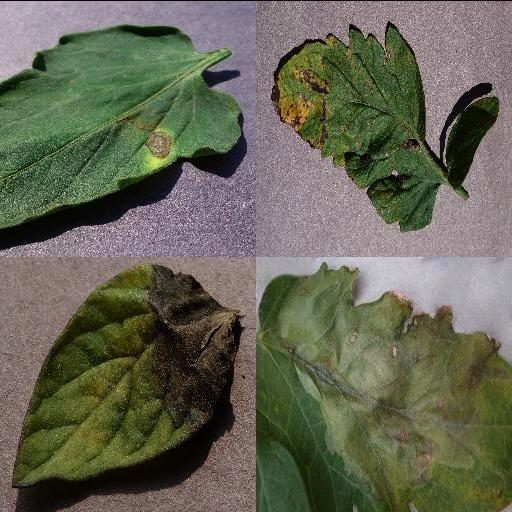Early Blight: (0, 24, 244, 228)
Late Blight: (256, 260, 512, 512), (11, 262, 243, 486)
Septoria: (271, 23, 437, 233)
